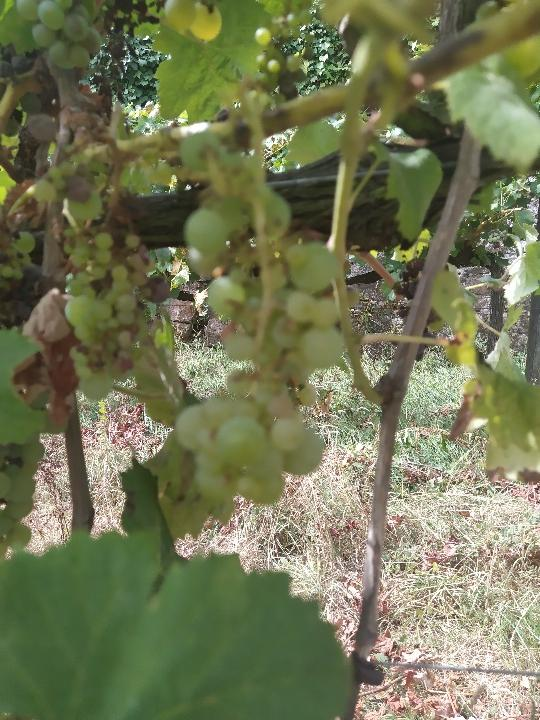grape: (171, 175, 349, 524)
